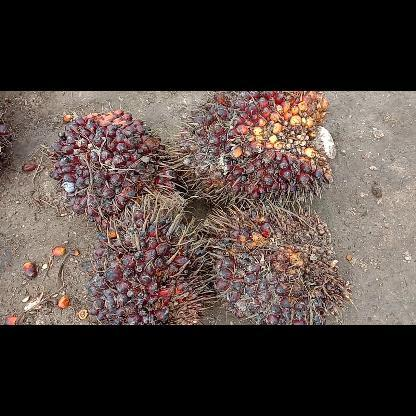TBS masak: (167, 90, 335, 208), (203, 200, 351, 324), (86, 194, 222, 324), (49, 108, 175, 228)
